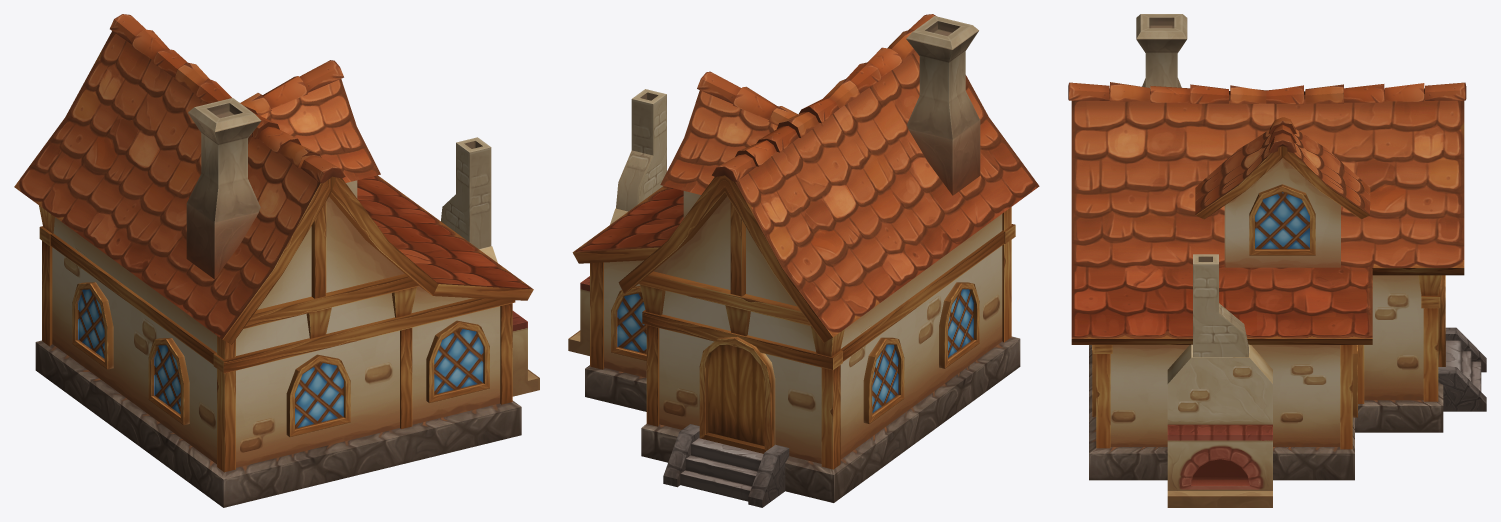
File: BakerHousecopy.fbx
3 renders of one model, left to right at view 1: azimuth 30°, elevation 25°; view 2: azimuth 150°, elevation 25°; view 3: azimuth 270°, elevation 25°, orthographic. The views are drawn at different scales.
Visible parts, largest first — view 1: Baker_house, Chimney; view 2: Baker_house, Chimney; view 3: Baker_house, Chimney.
Boxes of the visible parts, box(x1,y1,x2,y2) form: Baker_house: box(14, 14, 533, 507); Chimney: box(441, 137, 539, 396); Baker_house: box(572, 14, 1039, 507); Chimney: box(568, 89, 666, 355); Baker_house: box(1068, 14, 1486, 480); Chimney: box(1167, 254, 1272, 507).
Bounding box in the file's own units: 3.8 × 3.54 × 3.97.
2 materials, 2 textured.
